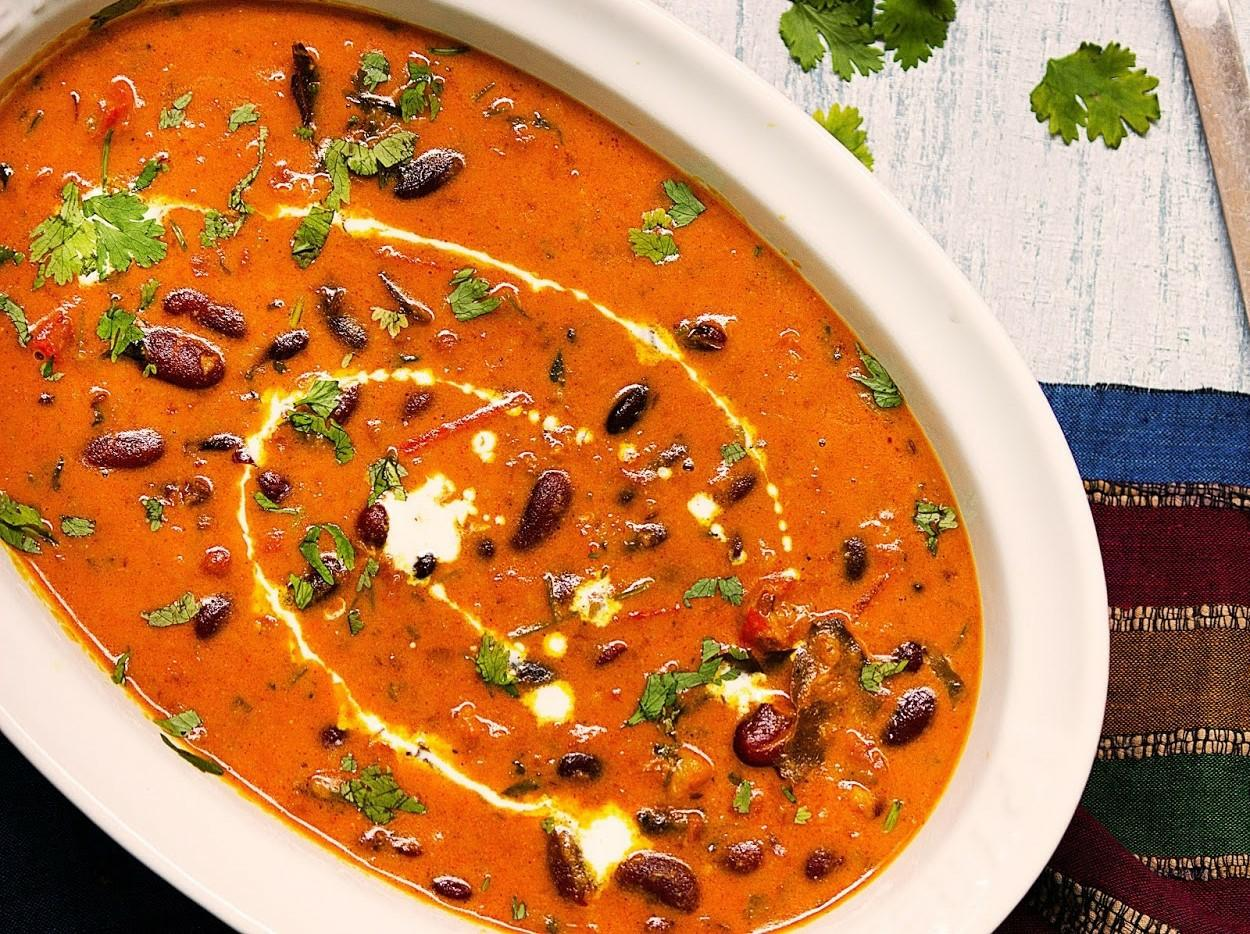RajmaCurry: (1, 0, 980, 922)
